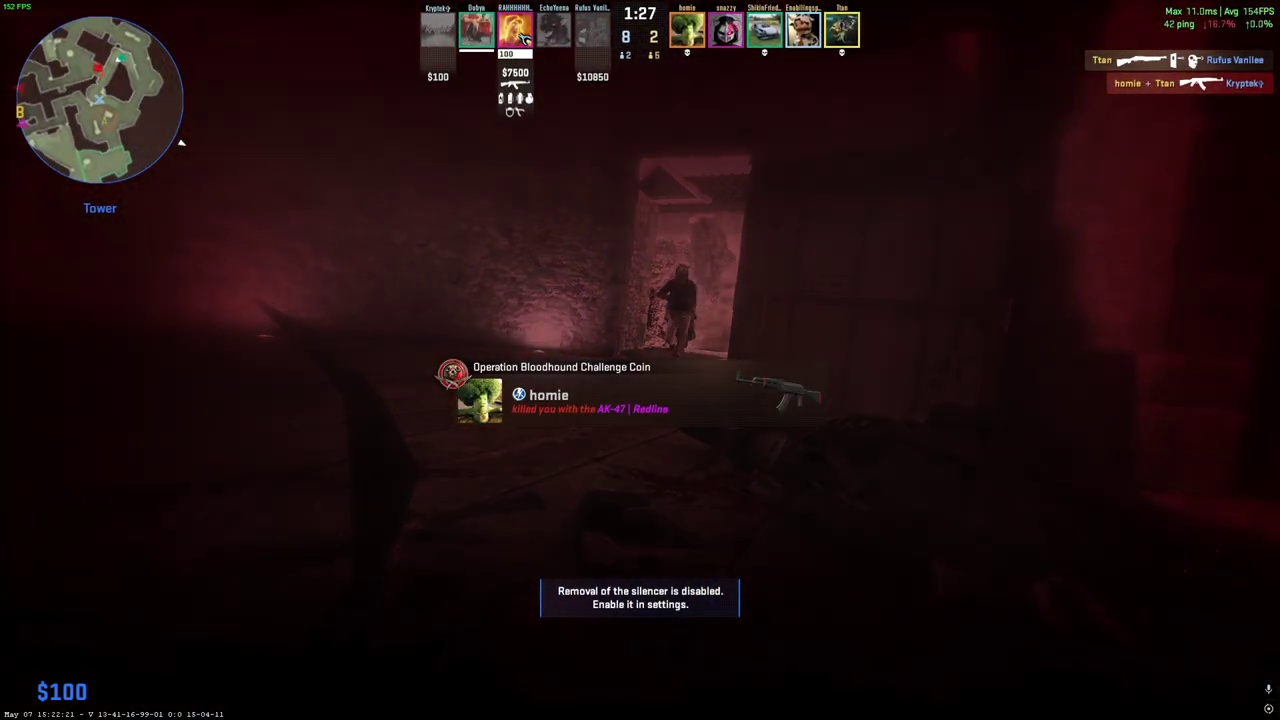Terrorist: (661, 263, 700, 356)
